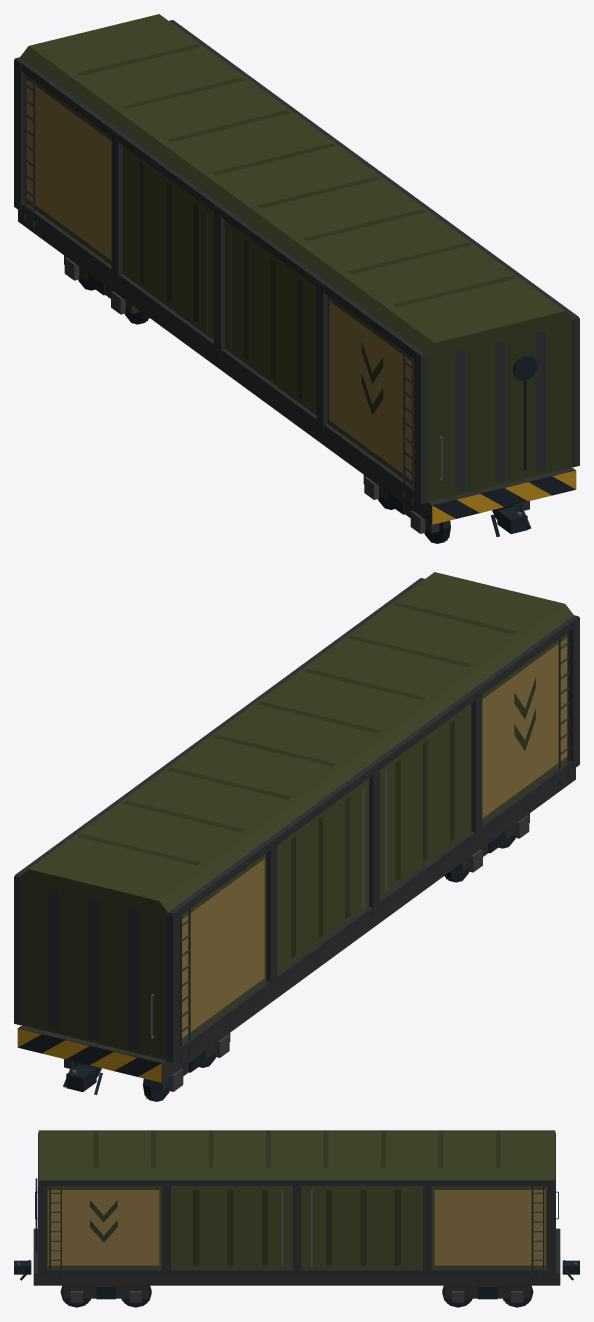
File: box-car.glb
3 renders of one model, top to bottom at view 1: azimuth 30°, elevation 25°; view 2: azimuth 150°, elevation 25°; view 3: azimuth 270°, elevation 25°, orthographic. The views are drawn at different scales.
Parts seen in each view (by area): view 1: box-car (×2); view 2: box-car (×2); view 3: box-car (×2).
Boxes of the visible parts, x1,y1,x2,y2 form: box-car (×2): (14, 14, 579, 543); box-car (×2): (14, 572, 579, 1101); box-car (×2): (14, 1130, 579, 1307).
Bounding box in the file's own units: 9.5 × 13.15 × 46.
